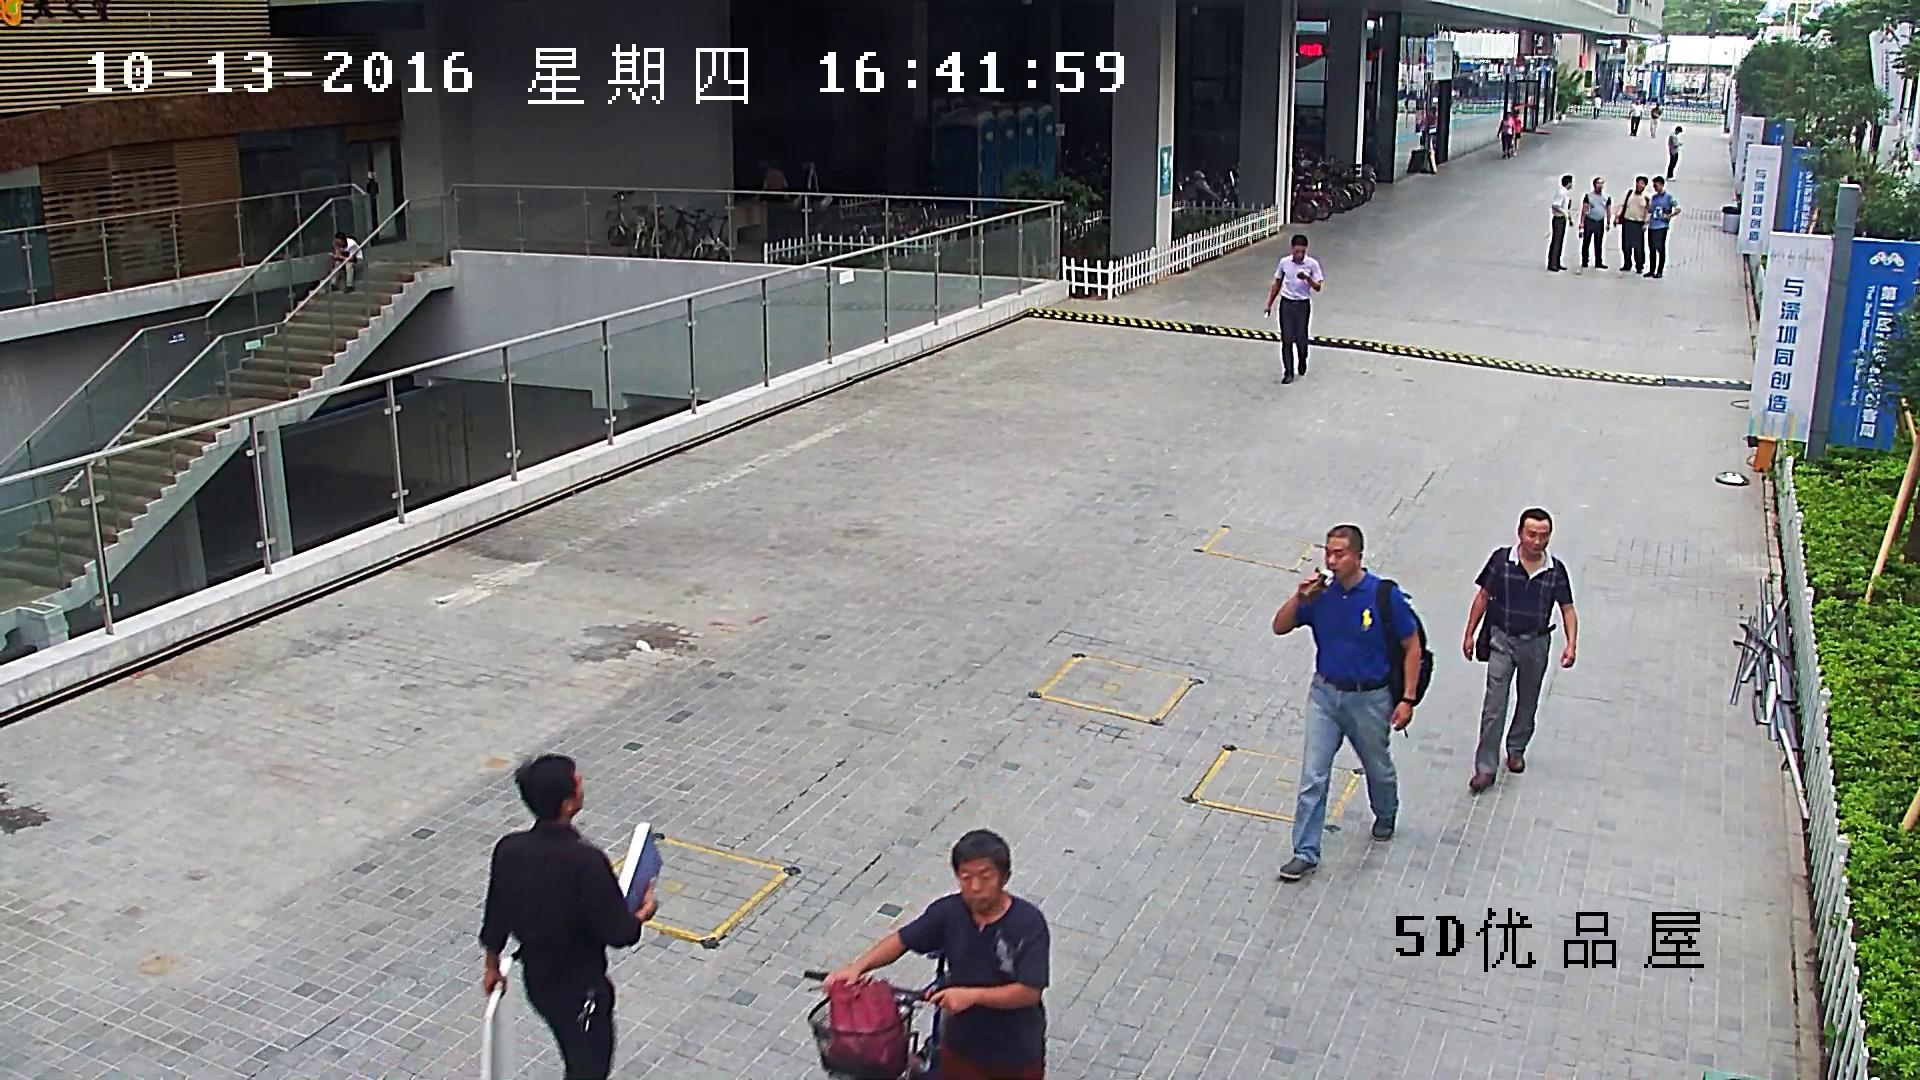person: (789, 827, 1053, 1077), (476, 748, 662, 1080), (1270, 521, 1435, 881), (823, 828, 1054, 1078), (1458, 506, 1577, 793), (1263, 235, 1323, 384), (1643, 175, 1681, 279), (1611, 176, 1650, 275), (1574, 176, 1611, 269), (1547, 173, 1576, 272), (323, 230, 365, 294), (1496, 111, 1516, 159), (1666, 126, 1683, 181), (1627, 98, 1641, 136), (1648, 101, 1661, 138), (1512, 110, 1521, 155), (1592, 94, 1601, 119)
